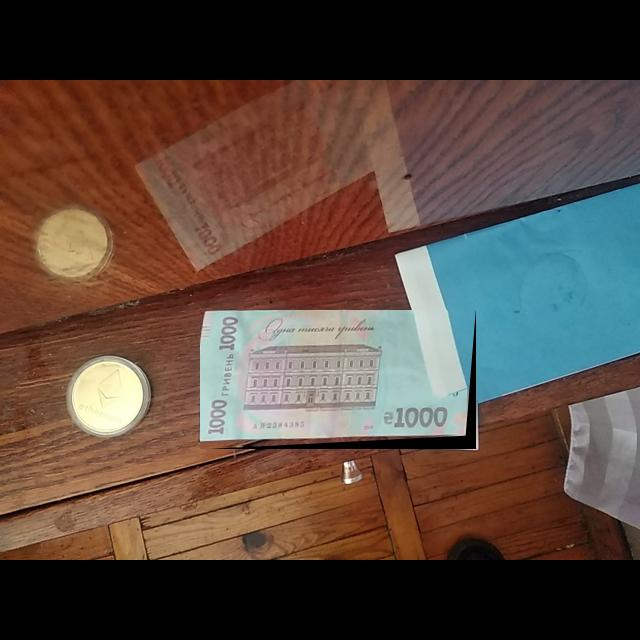1000uah: (200, 310, 472, 442)
